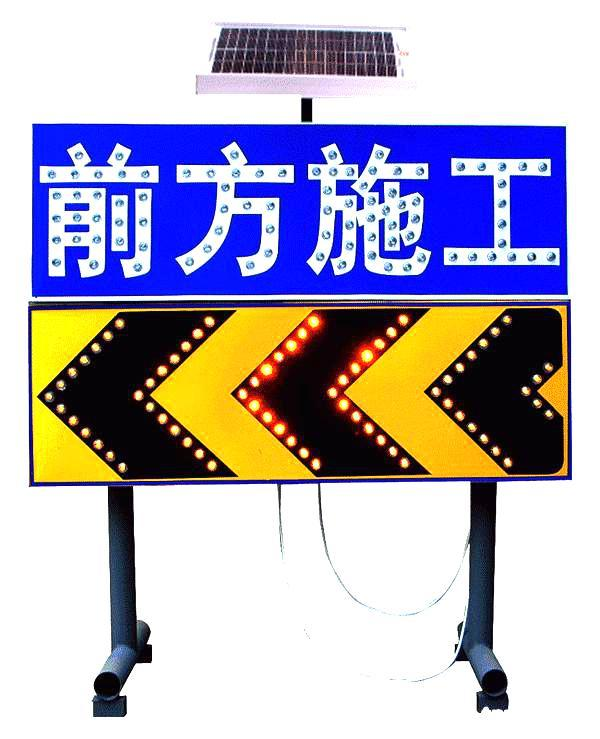sign: (34, 123, 570, 485)
